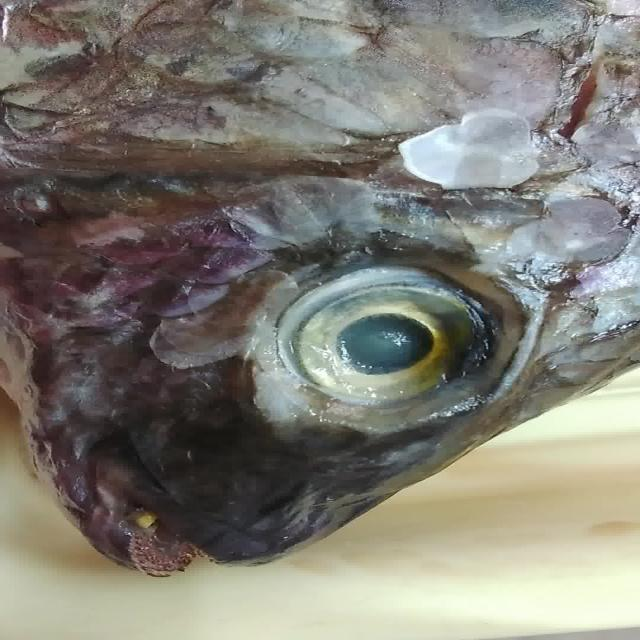Non-Fresh: (256, 248, 509, 451)
